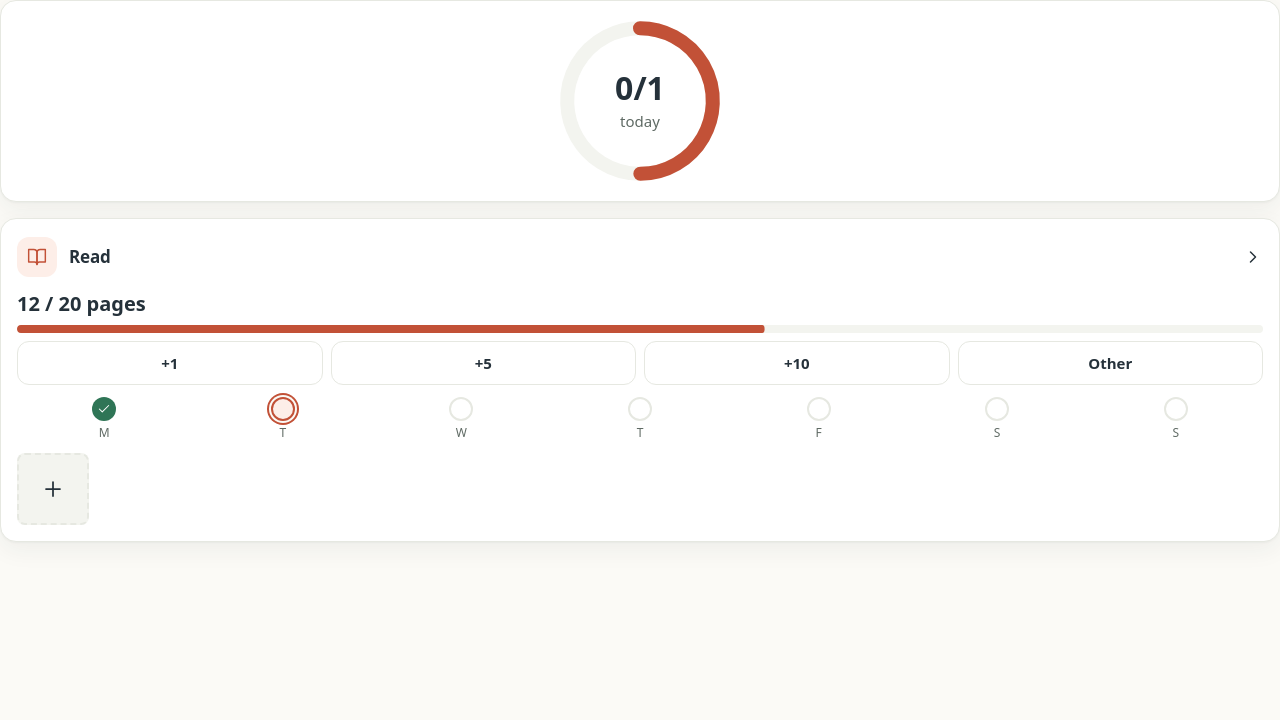
it: today › adds a number and rolls back when the day has closed
This screenshot has width=1280, height=720.
Click the button "+5".
click(483, 363)  # box x1=330 y1=341 x2=636 y2=385
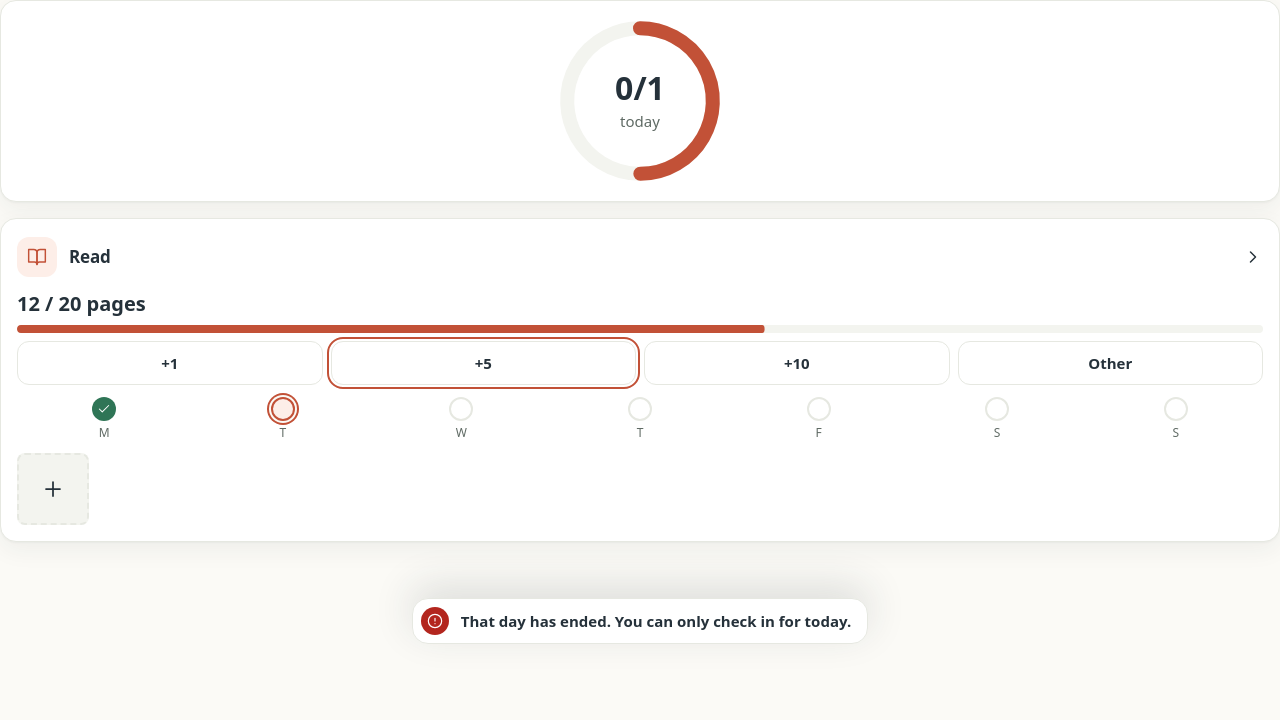
Check: the text "12 / 20 pages" is shown, box x1=17 y1=291 x2=146 y2=317
Check: the text "That day has ended. You can only check in for today." is shown, box x1=412 y1=598 x2=868 y2=644
